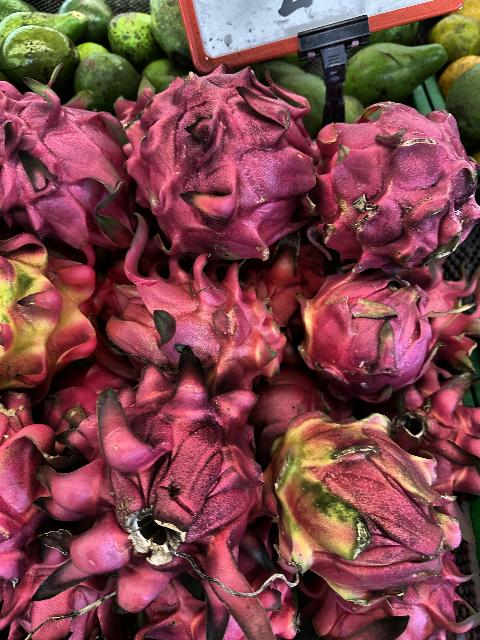buah-naga-belum-matang: (258, 408, 464, 610), (102, 256, 290, 396), (286, 258, 460, 406), (1, 234, 100, 394)
buah-naga-matang: (86, 382, 268, 608), (115, 84, 322, 256), (310, 109, 478, 264), (0, 78, 134, 255)
